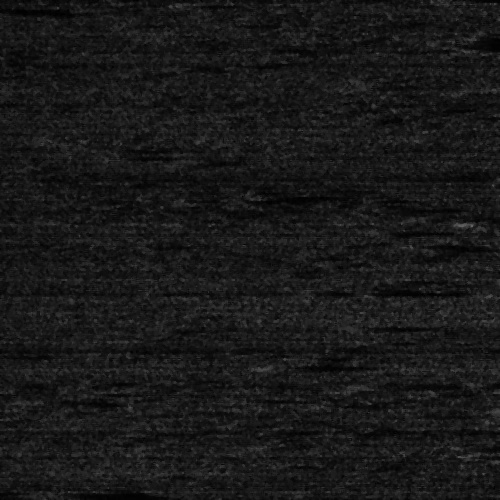rock: (436, 449, 500, 460), (18, 486, 71, 497), (245, 360, 298, 369), (414, 0, 487, 1)
shadow: (45, 486, 155, 497), (0, 4, 83, 13), (272, 360, 350, 369), (473, 449, 500, 460)
